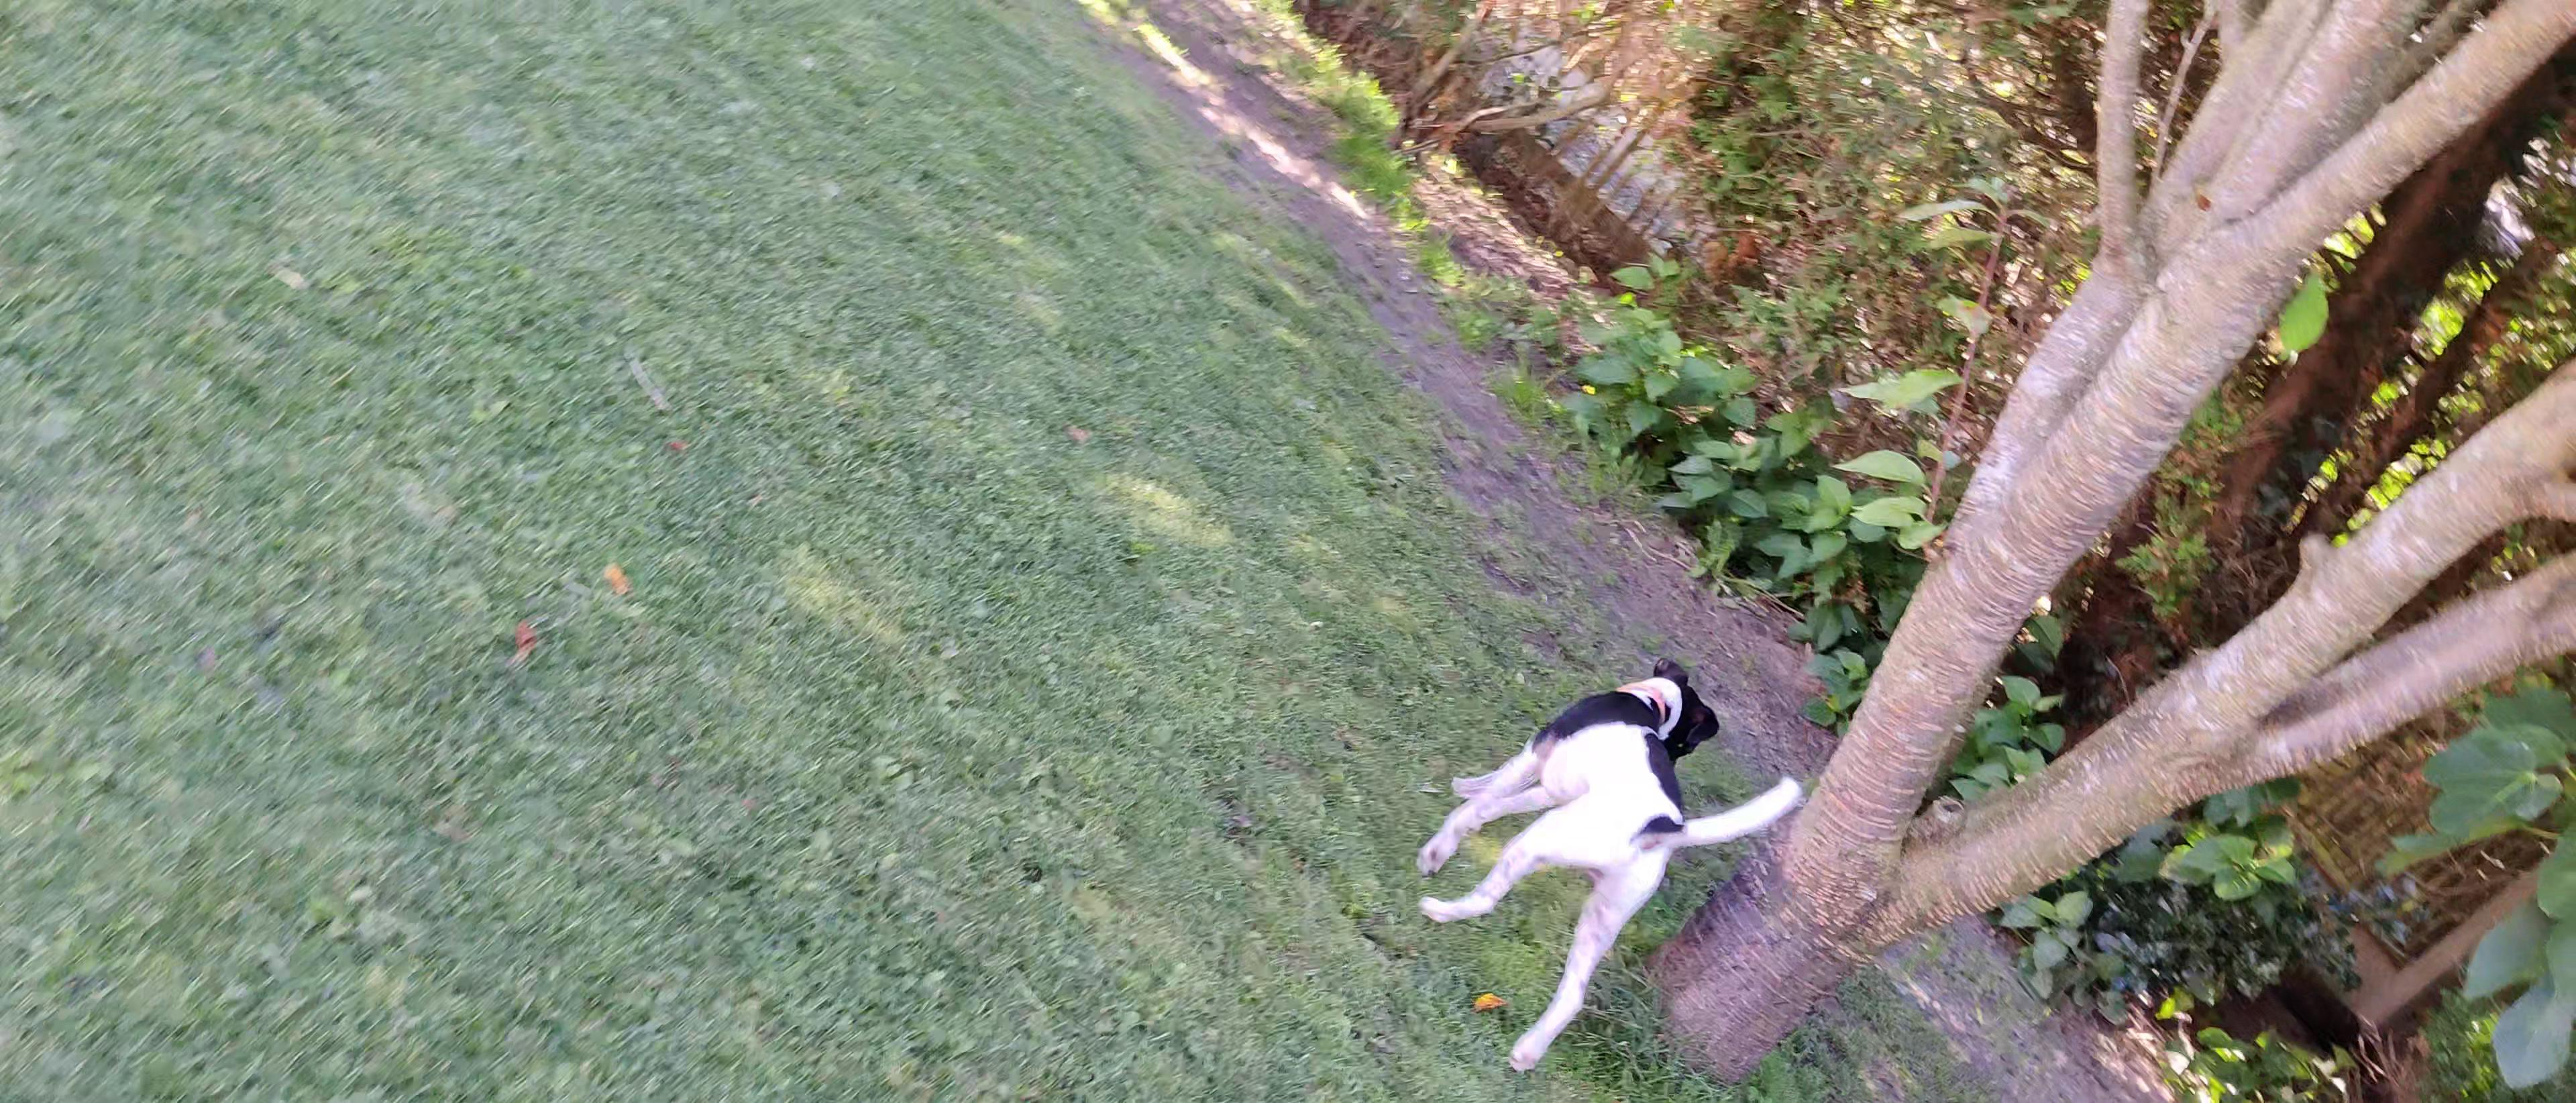Dog: (1396, 595, 1820, 1075)
